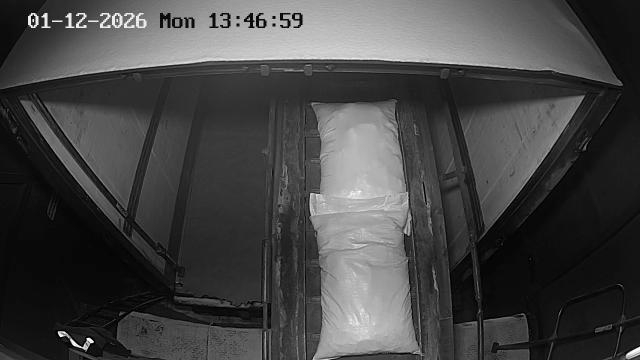bag: (310, 193, 422, 360), (313, 99, 412, 237)
